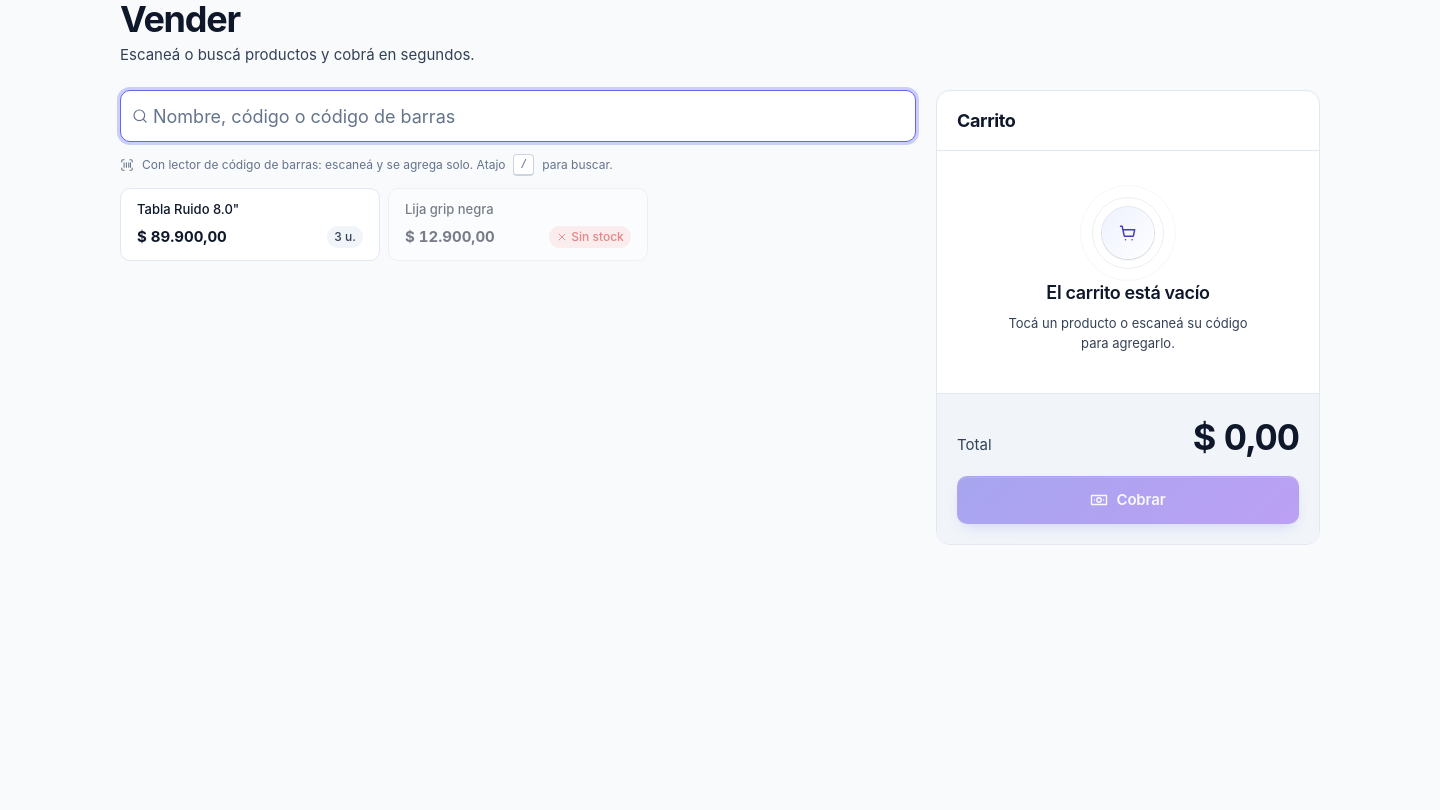
it: PosPage › cobra con una clave de idempotencia y vacía el carrito
What coordinates should you click on to do the following:
click the button with aria-label "Agregar Tabla Ruido 8.0"
I would click on:
 (188, 209)
Its box is [120, 188, 380, 261].
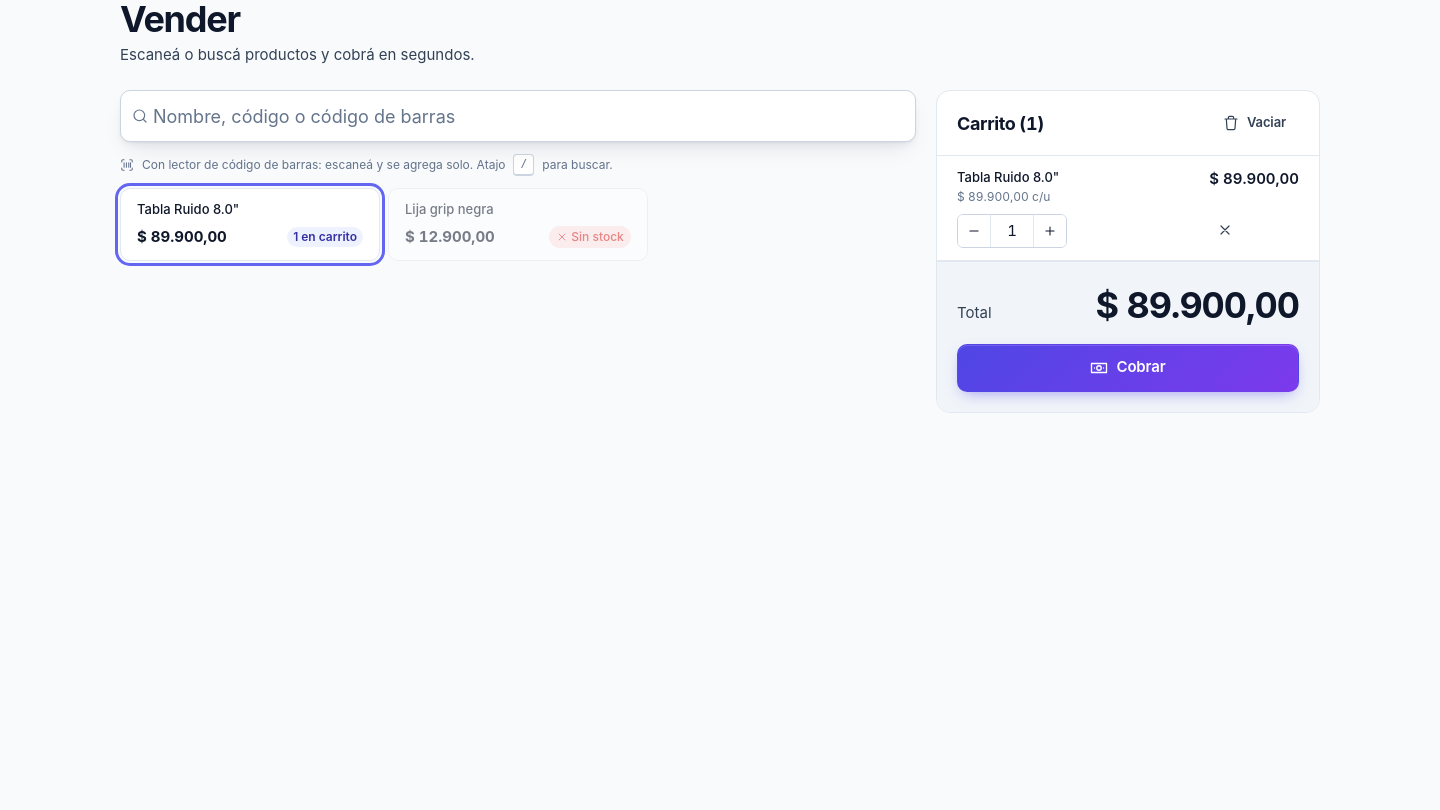
What coordinates should you click on to do the following:
click the button "Cobrar"
I would click on:
 (1128, 368)
Its box is [957, 344, 1299, 392].
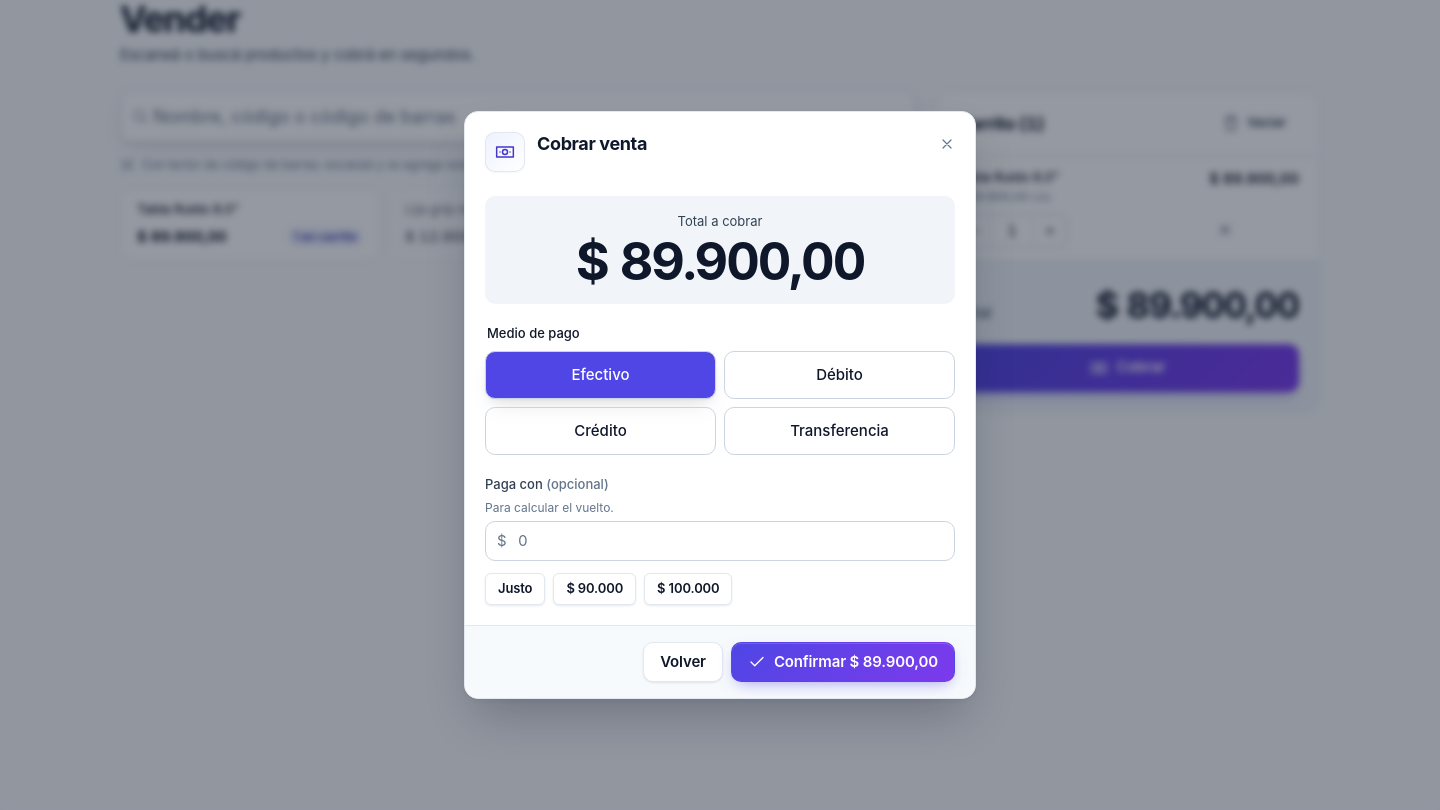
What coordinates should you click on to do the following:
click the button "Justo"
I would click on:
 (515, 589)
Its box is [485, 573, 545, 605].
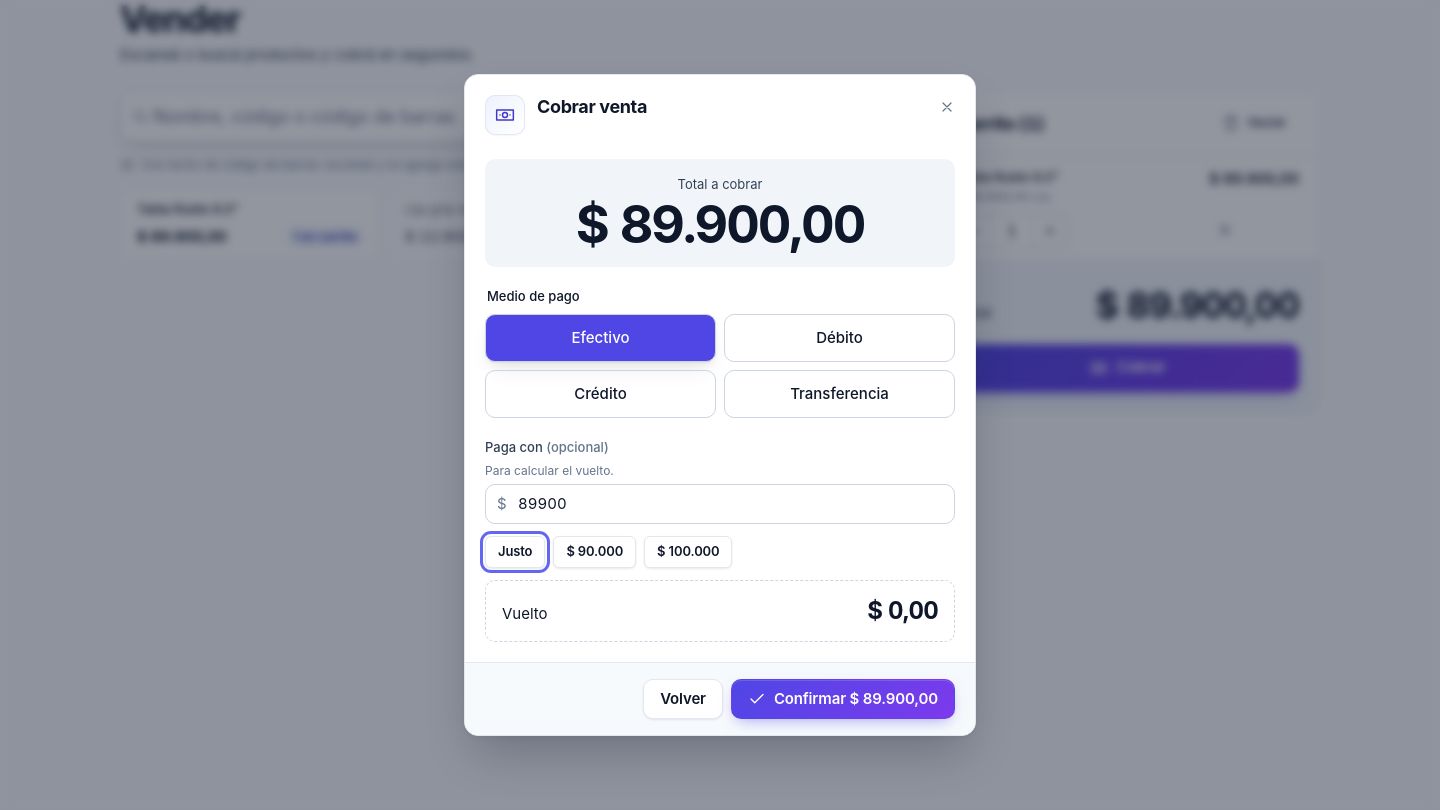
expect the dialog "Cobrar venta" shows "Vuelto": met, box [502, 604, 548, 623]
What coordinates should you click on to do the following:
click the button "Confirmar $ 89.900,00"
I would click on:
 (843, 699)
Its box is [731, 679, 955, 719].
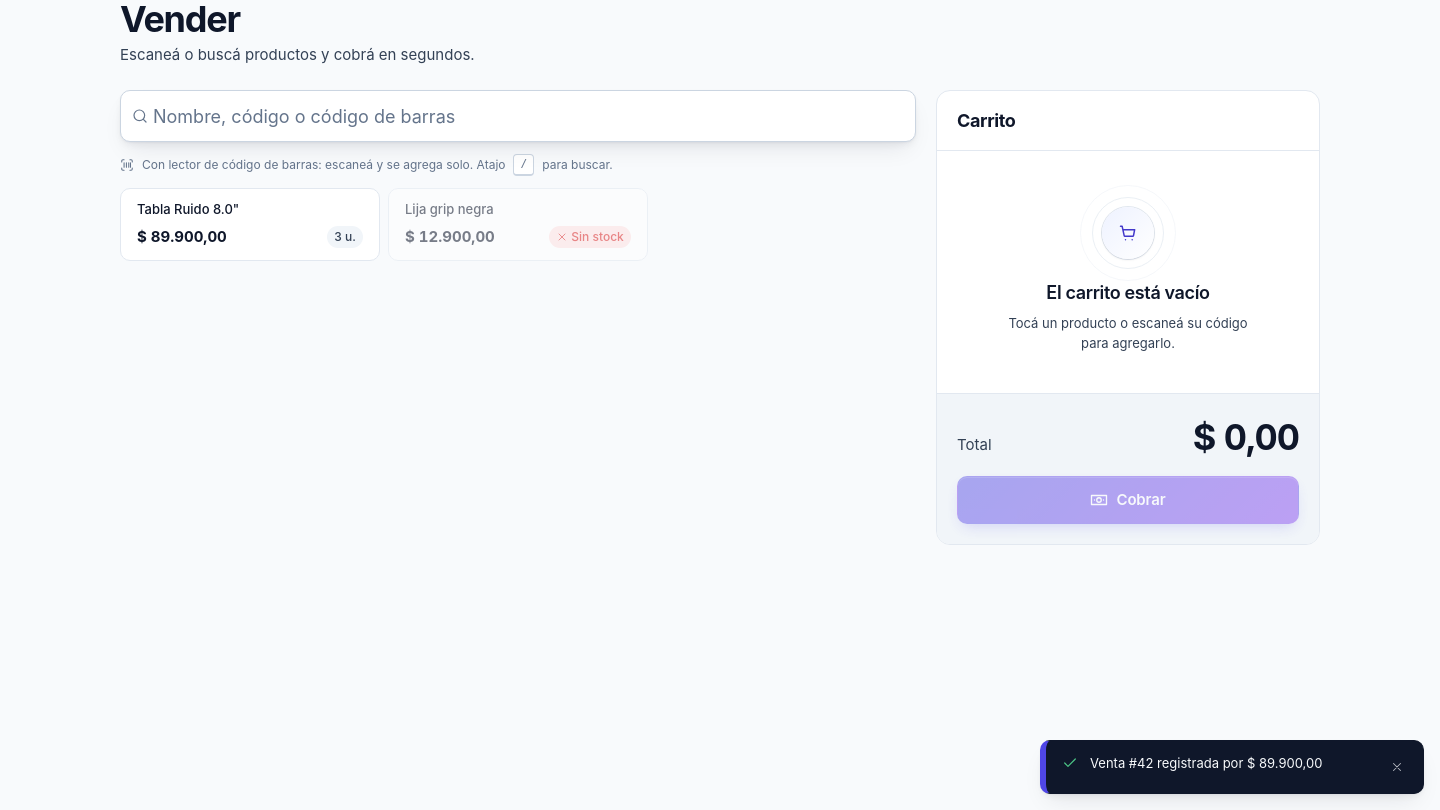
expect the text "Venta #42 registrada por $ 89.900,00" is shown: met, box [1090, 755, 1322, 771]
expect the text "El carrito está vacío" is shown: met, box [1046, 279, 1210, 306]
